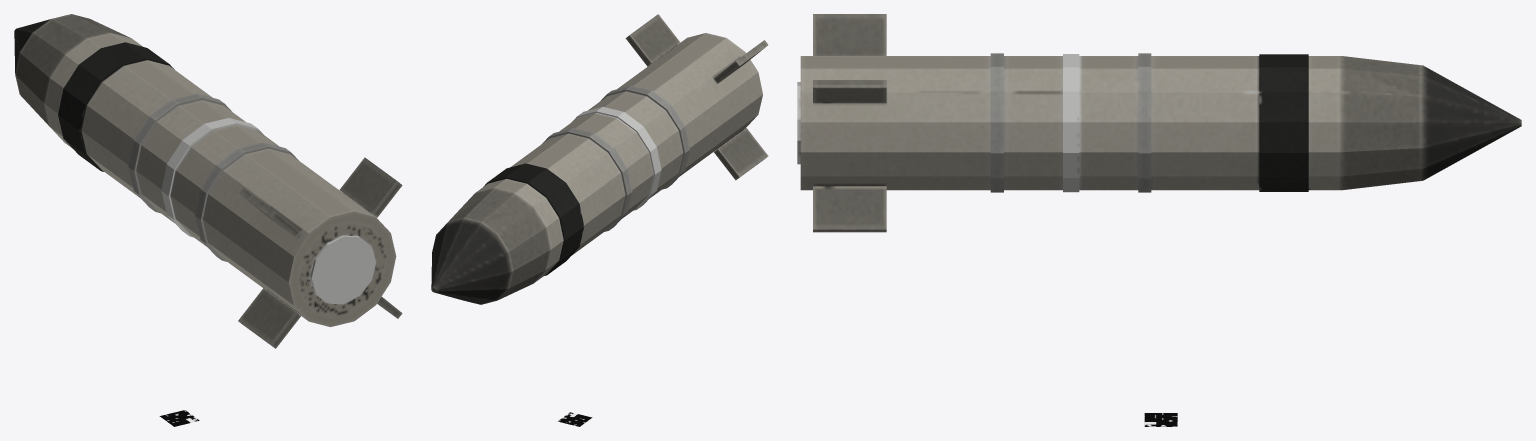
The model's file is ord_nuke.fbx.
3 views of the same model, side by side, from view 1: azimuth 30°, elevation 25°; view 2: azimuth 150°, elevation 25°; view 3: azimuth 270°, elevation 25° (orthographic). The views are drawn at different scales.
Visible parts, largest first — view 1: base_bar, base_glow_weapon_bar, base_glow_running_bar, emissive_probe; view 2: base_bar, base_glow_running_bar; view 3: base_bar, base_glow_running_bar.
Part boxes in pixels (x1,y1,x2,y2): base_bar: [14, 14, 402, 348]; base_glow_weapon_bar: [310, 235, 376, 304]; base_glow_running_bar: [161, 118, 264, 237]; emissive_probe: [159, 410, 199, 426]; base_bar: [431, 14, 768, 304]; base_glow_running_bar: [572, 106, 661, 210]; base_bar: [800, 14, 1521, 232]; base_glow_running_bar: [1063, 54, 1079, 192].
Size of the model in its own units: 103 by 251 by 442.
Materials: 2 (2 with a texture image).
